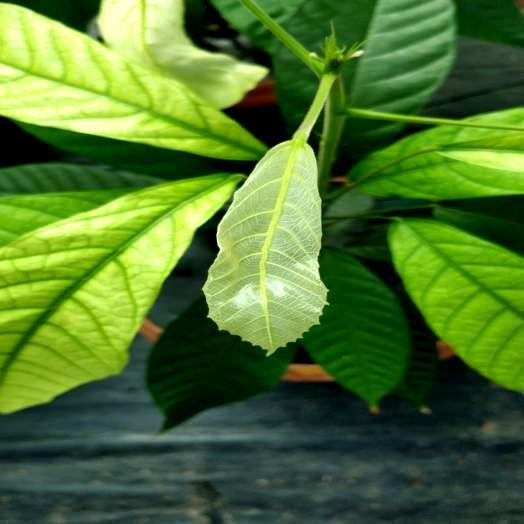Healthy Leaf: (276, 1, 451, 115), (147, 298, 295, 430), (303, 248, 411, 409), (0, 163, 166, 195)
Iron: (0, 175, 240, 412), (1, 3, 265, 159), (203, 70, 338, 355), (389, 219, 523, 392), (98, 0, 267, 108), (350, 127, 523, 200), (0, 191, 118, 245), (465, 108, 523, 124)
